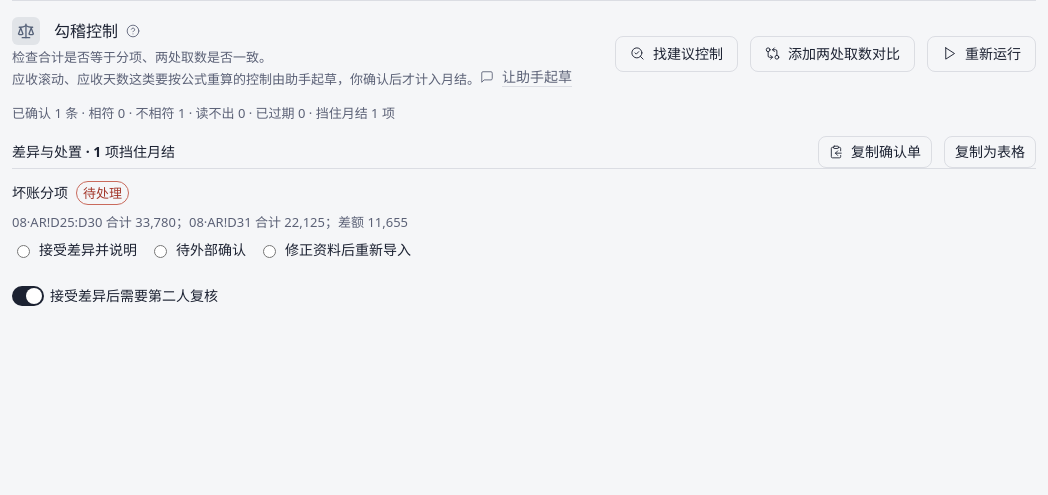
it: asks for the name of whoever accepts when a second review is required
Click the radio button labelled "接受差异并说明": {"x": 24, "y": 252} [17,245,30,258]
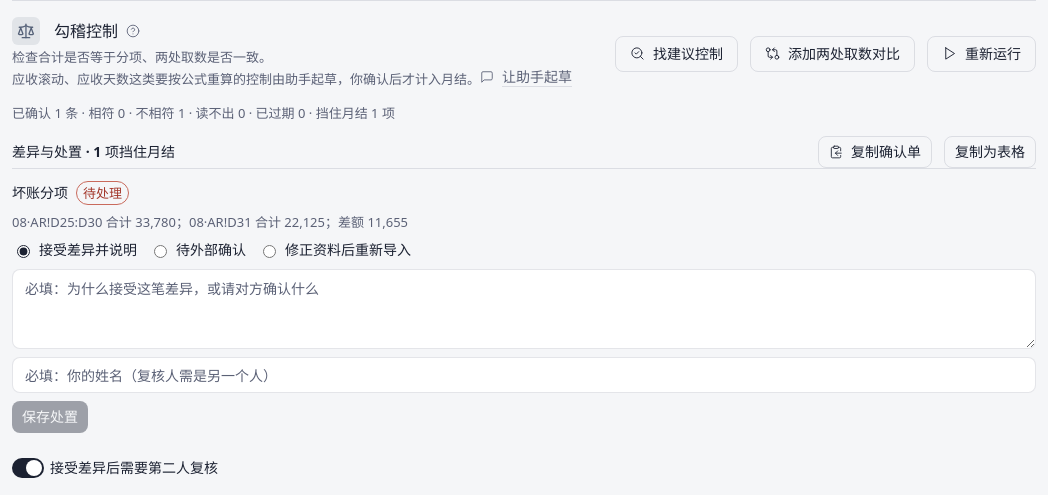
In the text box named "说明": {"x": 524, "y": 309} [12,269,1036,349], type "已知"
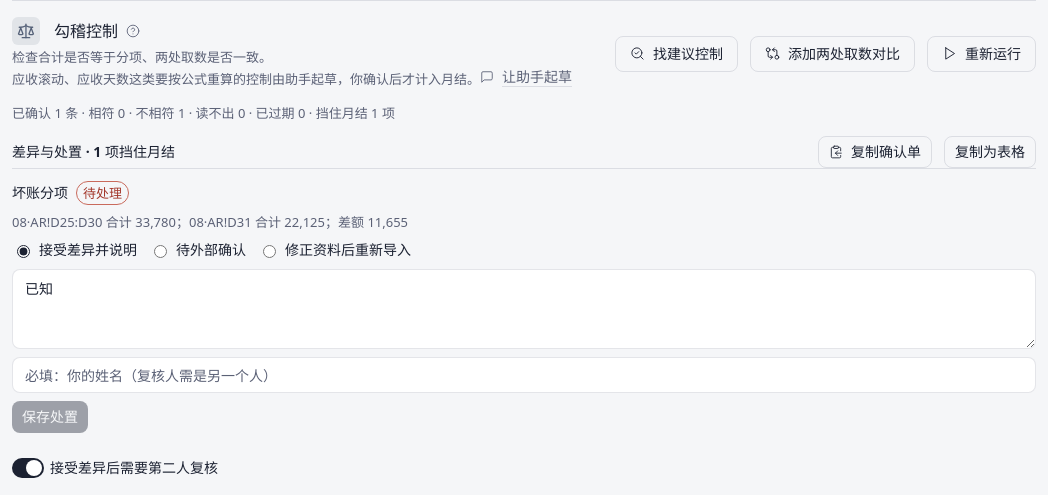
Now the button "保存处置" is disabled, box [12,401,88,433]
In the field labelled "你的姓名": {"x": 524, "y": 375} [12,357,1036,393], type "张会计"
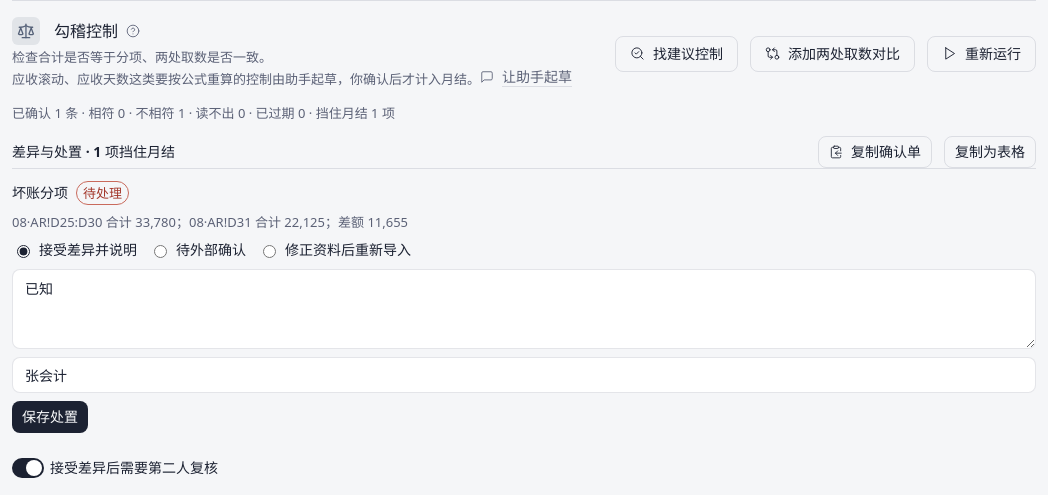
Now the button "保存处置" is enabled, box [12,401,88,433]
